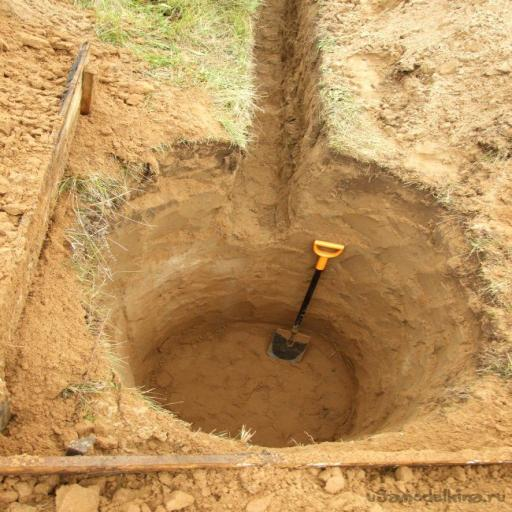entrance: (112, 144, 478, 446)
